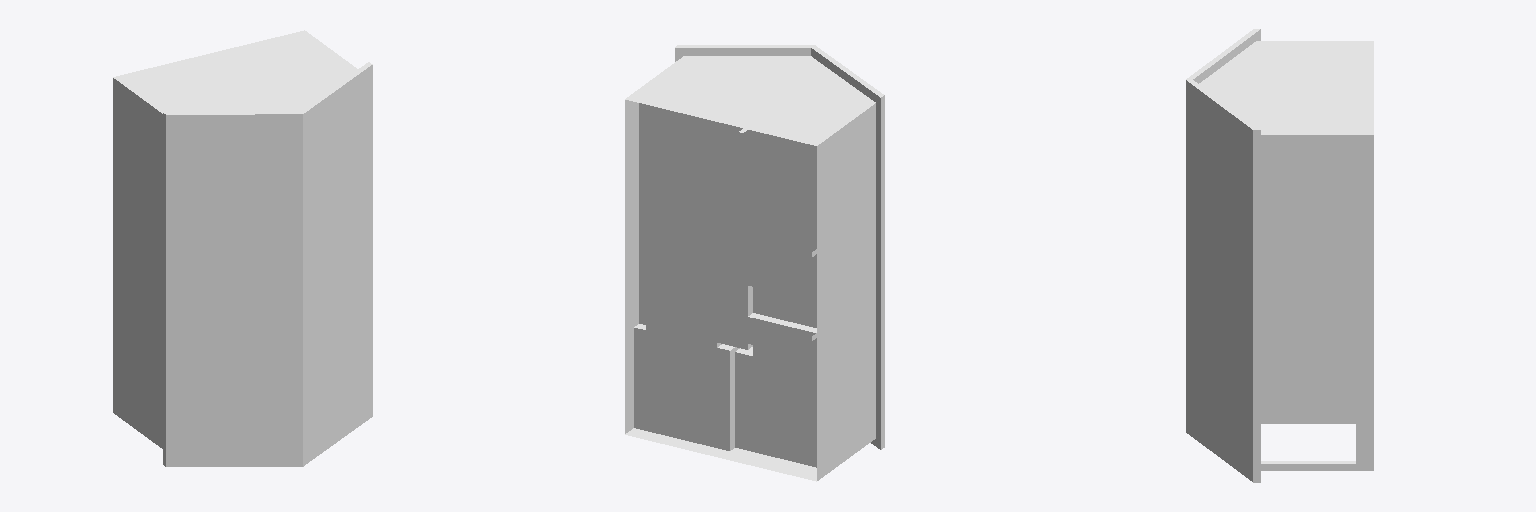
File: casa00.obj
3 renders of one model, left to right at view 1: azimuth 30°, elevation 25°; view 2: azimuth 150°, elevation 25°; view 3: azimuth 270°, elevation 25°, orthographic.
Visible parts, largest first — view 1: obj24, obj1; view 2: obj2, obj1, obj25, obj24, obj3, obj4; view 3: obj1, obj24, obj26.
Part boxes in pixels (x1,y1,x2,y2): obj24: (163, 62, 372, 466); obj1: (113, 30, 357, 448); obj2: (639, 103, 816, 467); obj1: (625, 56, 875, 481); obj25: (634, 325, 729, 450); obj24: (675, 45, 884, 449); obj3: (753, 234, 816, 327); obj4: (739, 128, 816, 259); obj1: (1199, 41, 1373, 470); obj24: (1186, 29, 1260, 482); obj26: (1261, 461, 1355, 470).
Size of the model in its own units: 253 by 414 by 201.